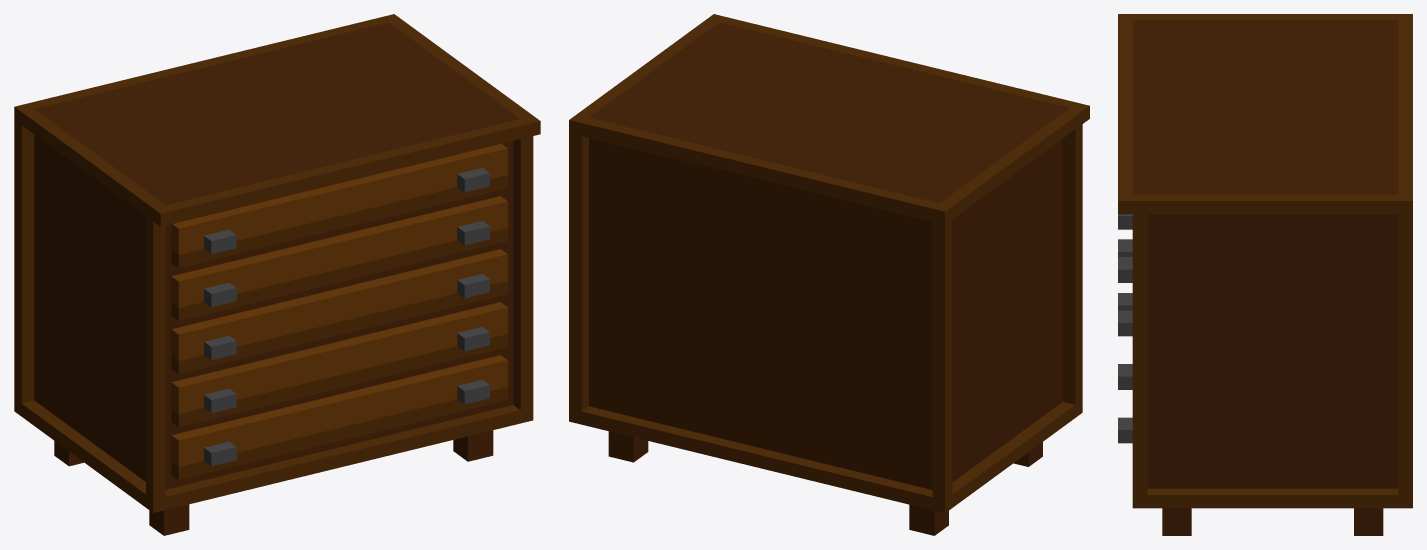
File: Drawers.obj
3 views of the same model, side by side, from view 1: azimuth 30°, elevation 25°; view 2: azimuth 150°, elevation 25°; view 3: azimuth 270°, elevation 25° (orthographic).
Parts seen in each view (by area): view 1: ObjObject; view 2: ObjObject; view 3: ObjObject.
Part boxes in pixels (x1,y1,x2,y2): ObjObject: (14,14,540,535); ObjObject: (569,14,1089,535); ObjObject: (1118,14,1412,535).
Size of the model in its own units: 3 by 2.6 by 2.
1 material, 1 textured.
